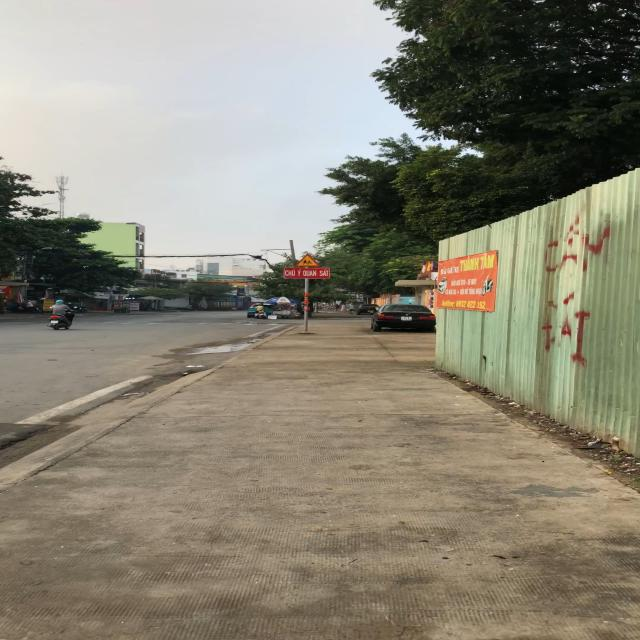Bien bao tre em: (296, 252, 323, 266)
